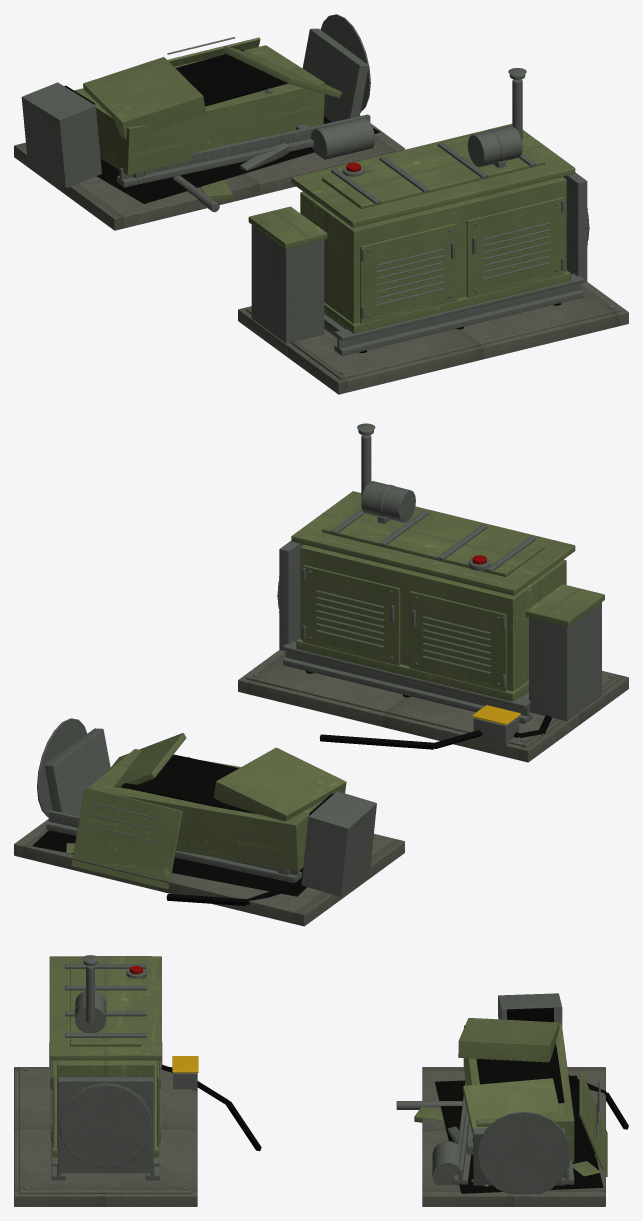
The model's file is generator.glb.
3 renders of one model, top to bottom at view 1: azimuth 30°, elevation 25°; view 2: azimuth 150°, elevation 25°; view 3: azimuth 270°, elevation 25°, orthographic. The views are drawn at different scales.
Visible parts, largest first — view 1: Generator_olive, Generator_steel, Wrak_olijf_zwart, Wrak_staal_zwart, Generator_concrete, Wrak_beton_zwart, Wrak_kool; view 2: Generator_olive, Wrak_olijf_zwart, Generator_steel, Wrak_staal_zwart, Generator_concrete, Wrak_beton_zwart, Wrak_kool, Generator_rubber, Wrak_rubber; view 3: Generator_steel, Generator_concrete, Generator_olive, Wrak_olijf_zwart, Wrak_staal_zwart, Wrak_beton_zwart, Wrak_kool, Generator_rubber, Generator_geel, Wrak_rubber.
Part boxes in pixels (x1,y1,x2,y2): Generator_olive: (248, 123, 575, 333); Generator_steel: (251, 68, 613, 373); Wrak_olijf_zwart: (74, 37, 341, 200); Wrak_staal_zwart: (21, 14, 374, 212); Generator_concrete: (238, 282, 628, 394); Wrak_beton_zwart: (14, 115, 404, 230); Wrak_kool: (64, 49, 379, 203); Generator_olive: (291, 491, 604, 701); Wrak_olijf_zwart: (66, 733, 346, 889); Generator_steel: (253, 423, 613, 747); Wrak_staal_zwart: (37, 718, 376, 896); Generator_concrete: (238, 650, 628, 762); Wrak_beton_zwart: (14, 819, 404, 926); Wrak_kool: (32, 754, 333, 896); Generator_rubber: (306, 671, 551, 749); Wrak_rubber: (166, 880, 302, 905); Generator_steel: (23, 955, 197, 1189); Generator_concrete: (14, 1067, 197, 1206); Generator_olive: (49, 956, 161, 1157); Wrak_olijf_zwart: (414, 1018, 607, 1186); Wrak_staal_zwart: (396, 993, 600, 1194); Wrak_beton_zwart: (422, 1067, 605, 1206); Wrak_kool: (435, 1008, 603, 1193); Generator_rubber: (161, 1064, 261, 1151); Generator_geel: (172, 1056, 198, 1072); Wrak_rubber: (568, 1075, 628, 1129).
Size of the model in its own units: 3.19 by 2.37 by 6.03.
Materials: 11 (6 with a texture image).
